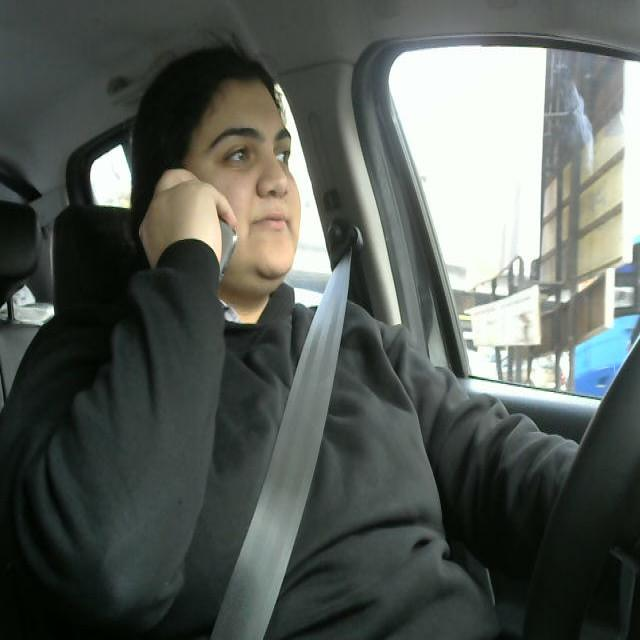mobile use: (157, 192, 246, 300)
